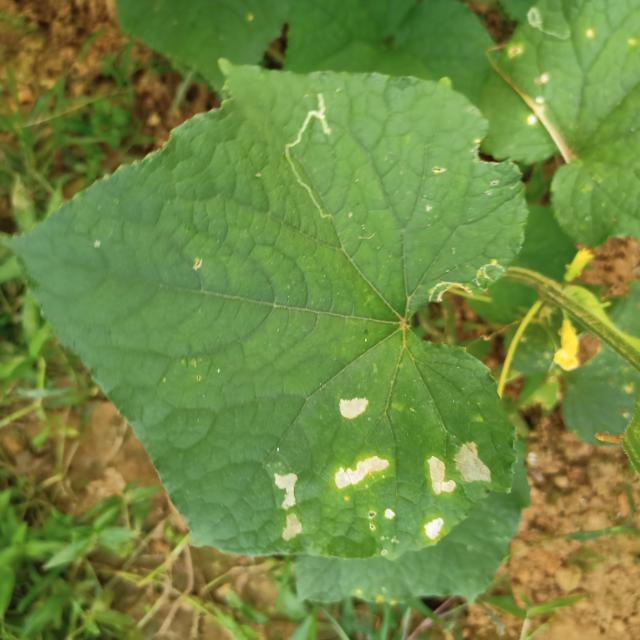disease_cucumber: (332, 442, 494, 544), (270, 466, 308, 548), (334, 390, 372, 424)
